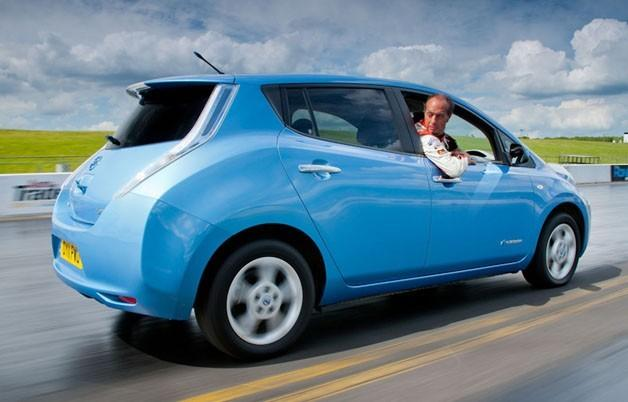Hatchback: (49, 51, 592, 361)
